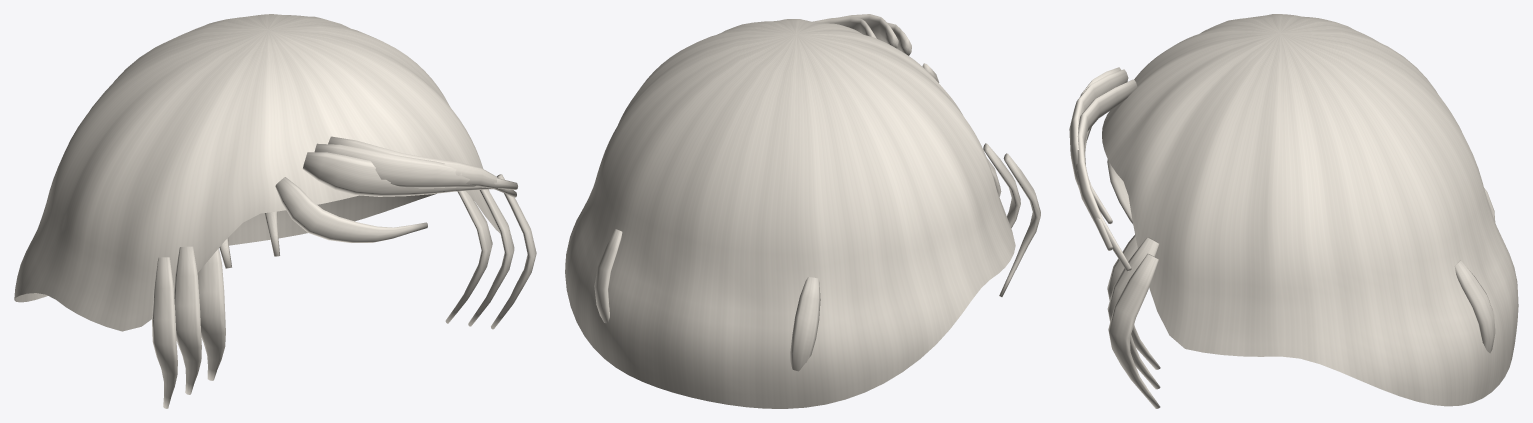
3 views of the same model, side by side, from view 1: azimuth 30°, elevation 25°; view 2: azimuth 150°, elevation 25°; view 3: azimuth 270°, elevation 25° (orthographic). The views are drawn at different scales.
Parts seen in each view (by area): view 1: Portrait hair p1; view 2: Portrait hair p1; view 3: Portrait hair p1.
Part boxes in pixels (x1,y1,x2,y2): Portrait hair p1: (14, 14, 536, 408); Portrait hair p1: (565, 14, 1040, 408); Portrait hair p1: (1069, 14, 1518, 408).
Bounding box in the file's own units: 1.04 × 0.7377 × 0.9475.
Materials: 1 (1 with a texture image).
